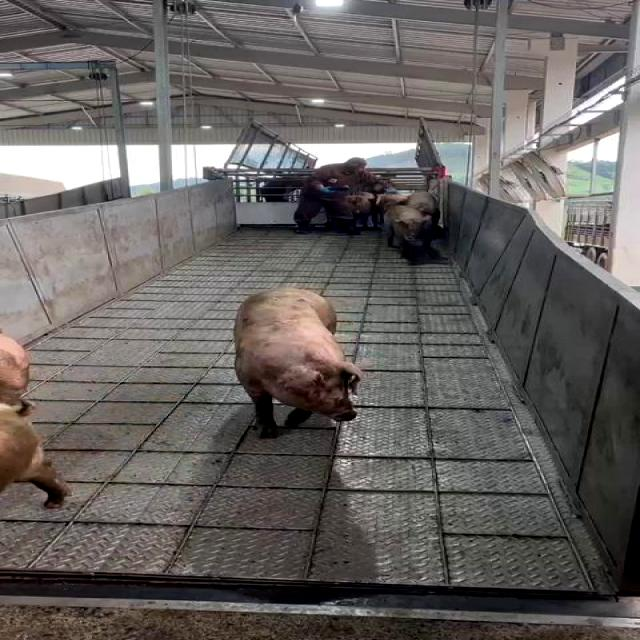pig: (235, 289, 363, 436), (1, 405, 67, 506), (1, 335, 29, 411)
